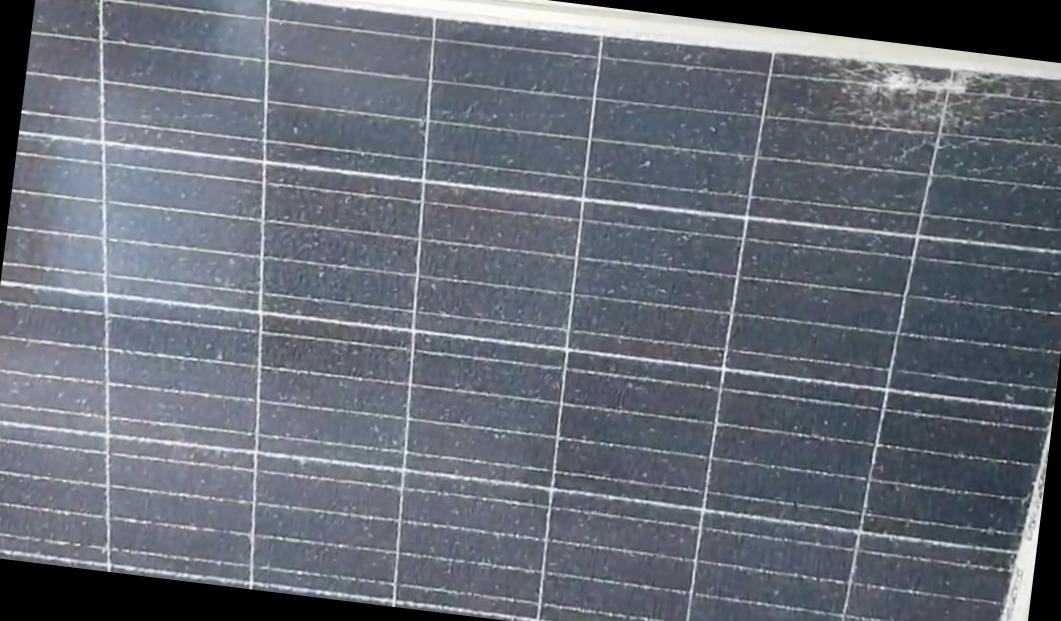Crack: (812, 44, 1012, 168)
